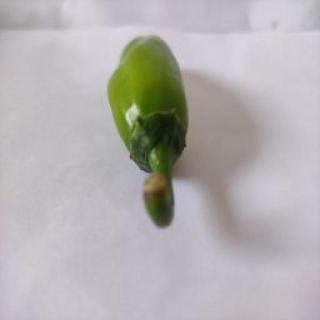Cabai Hijau: (104, 32, 193, 232)
